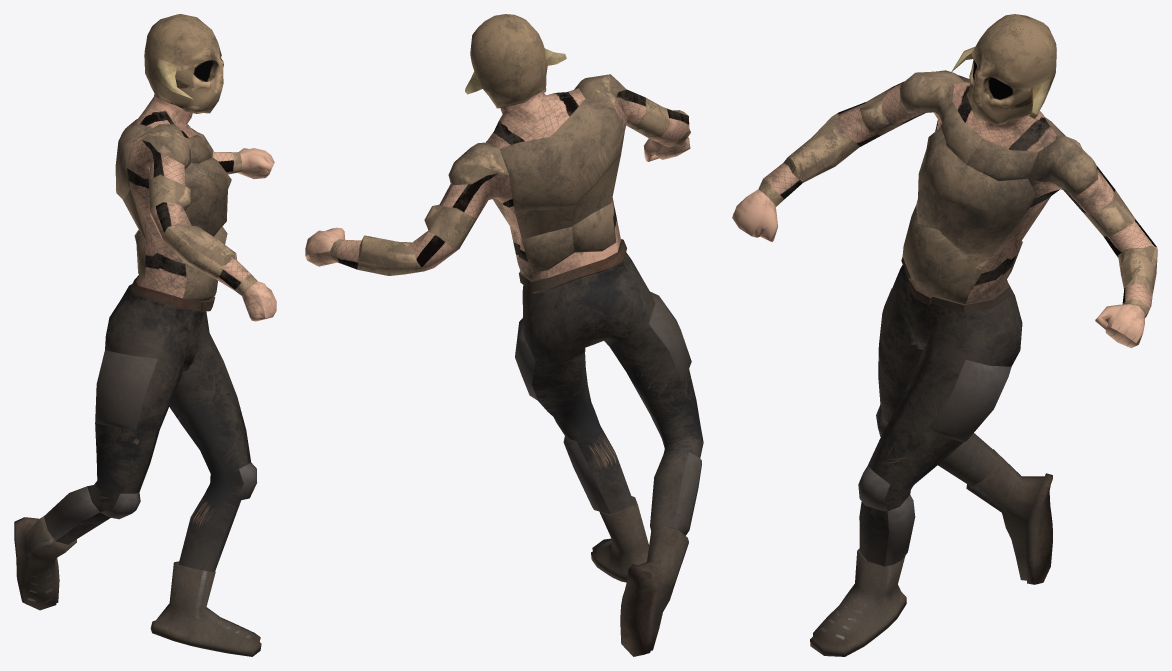
The model's file is Anim_ataque_f1_npc1.0016.obj.
The picture shows the model from 3 angles, left to right: view 1: azimuth 30°, elevation 25°; view 2: azimuth 150°, elevation 25°; view 3: azimuth 270°, elevation 25°; orthographic projection. The views are drawn at different scales.
Visible parts, largest first — view 1: NPC2; view 2: NPC2; view 3: NPC2.
Part boxes in pixels (bbox=[...]): NPC2: bbox=[14, 14, 276, 656]; NPC2: bbox=[305, 14, 703, 656]; NPC2: bbox=[732, 14, 1157, 656].
Bounding box in the file's own units: 4.96 × 9.1 × 5.48.
